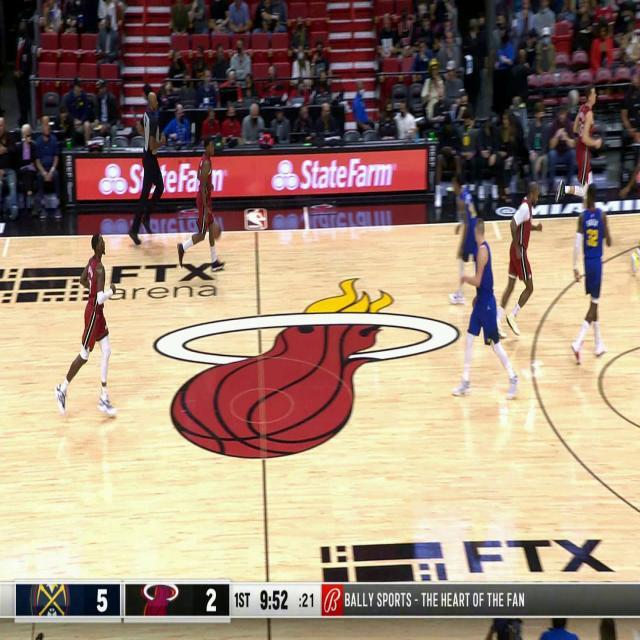rim: (210, 222, 222, 240)
